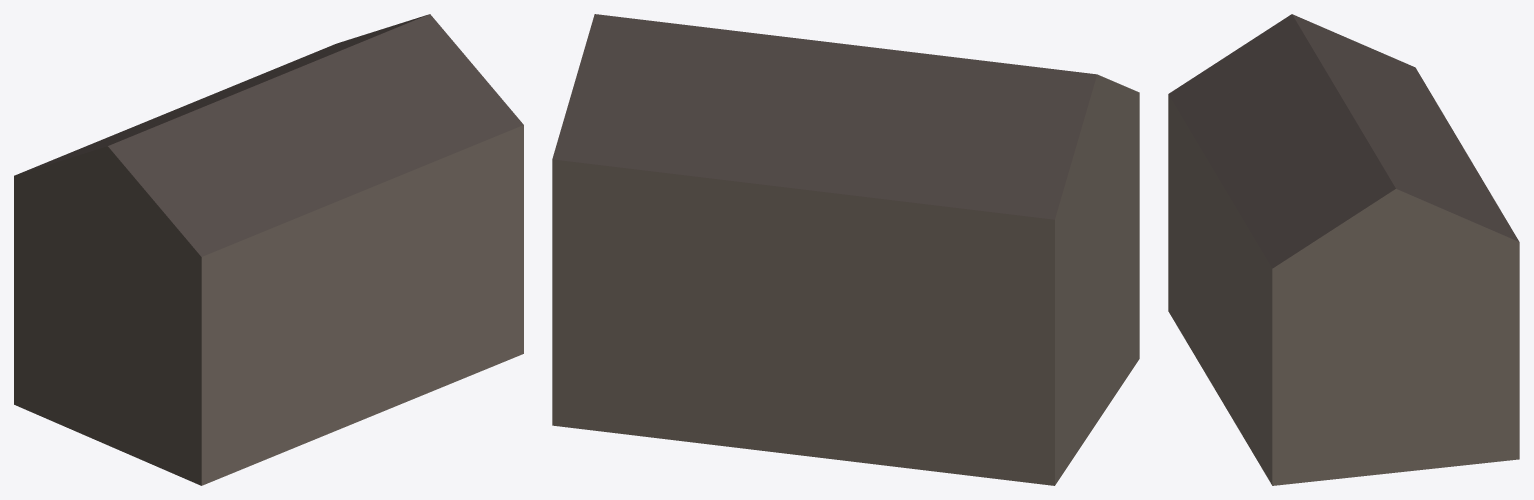
The picture shows the model from 3 angles, left to right: view 1: azimuth 30°, elevation 25°; view 2: azimuth 150°, elevation 25°; view 3: azimuth 270°, elevation 25°; orthographic projection. The views are drawn at different scales.
Parts seen in each view (by area): view 1: HP-w859457495; view 2: HP-w859457495; view 3: HP-w859457495.
Part boxes in pixels (bbox=[...]): HP-w859457495: bbox=[14, 14, 523, 485]; HP-w859457495: bbox=[552, 14, 1139, 485]; HP-w859457495: bbox=[1168, 14, 1519, 485].
Bounding box in the file's own units: 11.92 × 7.84 × 8.79.
